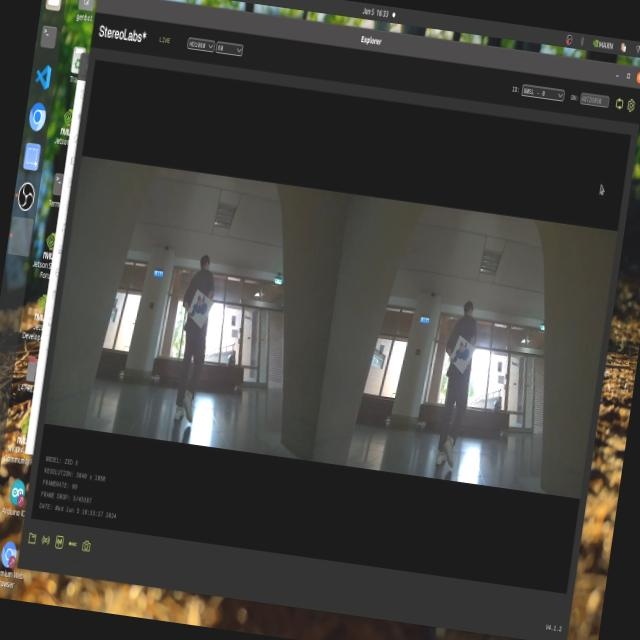blue: (449, 338, 476, 368), (192, 293, 210, 326)
